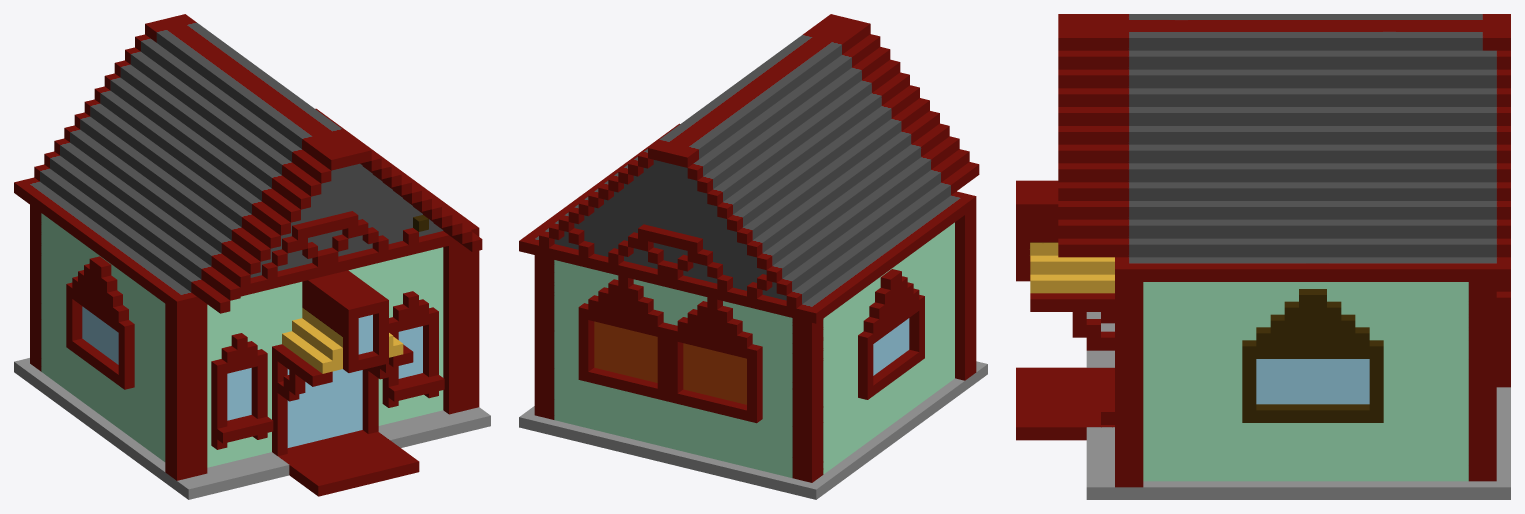
Rendered from House_5.fbx.
3 views of the same model, side by side, from view 1: azimuth 30°, elevation 25°; view 2: azimuth 150°, elevation 25°; view 3: azimuth 270°, elevation 25° (orthographic). The views are drawn at different scales.
Parts seen in each view (by area): view 1: House_5; view 2: House_5; view 3: House_5.
Part boxes in pixels (bbox=[...]): House_5: bbox=[14, 14, 490, 499]; House_5: bbox=[519, 14, 987, 499]; House_5: bbox=[1016, 14, 1510, 499].
Size of the model in its own units: 30 by 30 by 35.
Materials: 1 (1 with a texture image).
